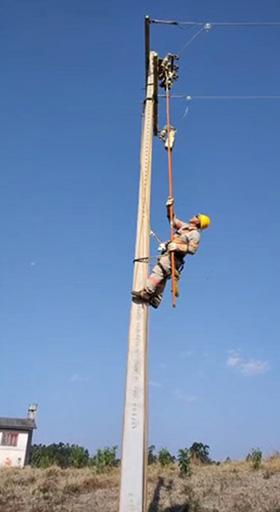Vara_Manobra: (162, 84, 178, 308)
